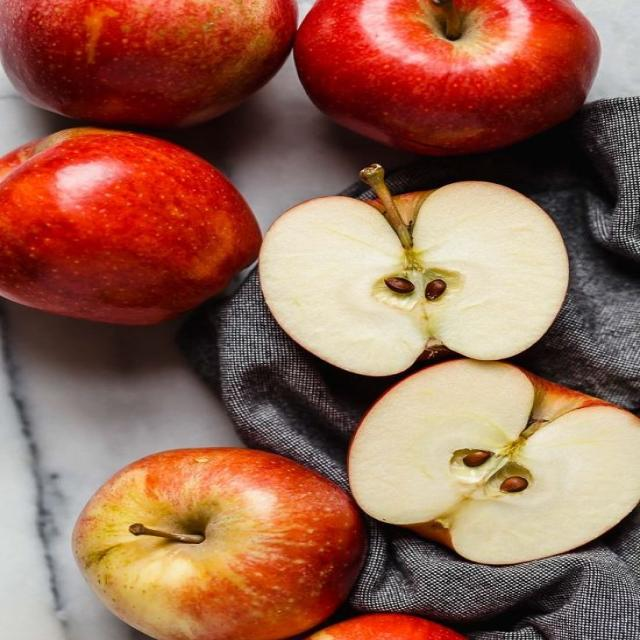apple: (260, 166, 567, 376), (350, 360, 639, 564), (74, 449, 364, 639), (0, 128, 260, 325), (295, 0, 600, 155), (0, 0, 296, 127), (308, 613, 464, 639)
